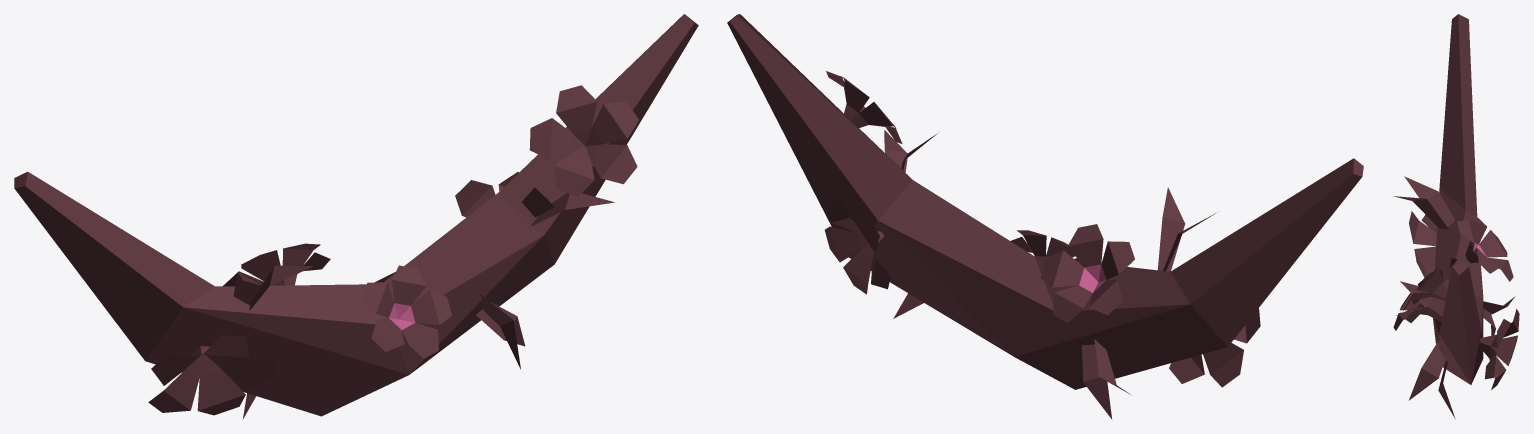
Rendered from empire-flower-decoration-short-empire.glb.
3 views of the same model, side by side, from view 1: azimuth 30°, elevation 25°; view 2: azimuth 150°, elevation 25°; view 3: azimuth 270°, elevation 25° (orthographic). The views are drawn at different scales.
Parts seen in each view (by area): view 1: SM_Flower_Decoration_Short_Empire; view 2: SM_Flower_Decoration_Short_Empire; view 3: SM_Flower_Decoration_Short_Empire.
Part boxes in pixels (<box>): SM_Flower_Decoration_Short_Empire: <box>14,14,698,419</box>; SM_Flower_Decoration_Short_Empire: <box>727,14,1363,419</box>; SM_Flower_Decoration_Short_Empire: <box>1393,14,1519,418</box>.
Bounding box in the file's own units: 2.04 × 0.9213 × 0.4356.
